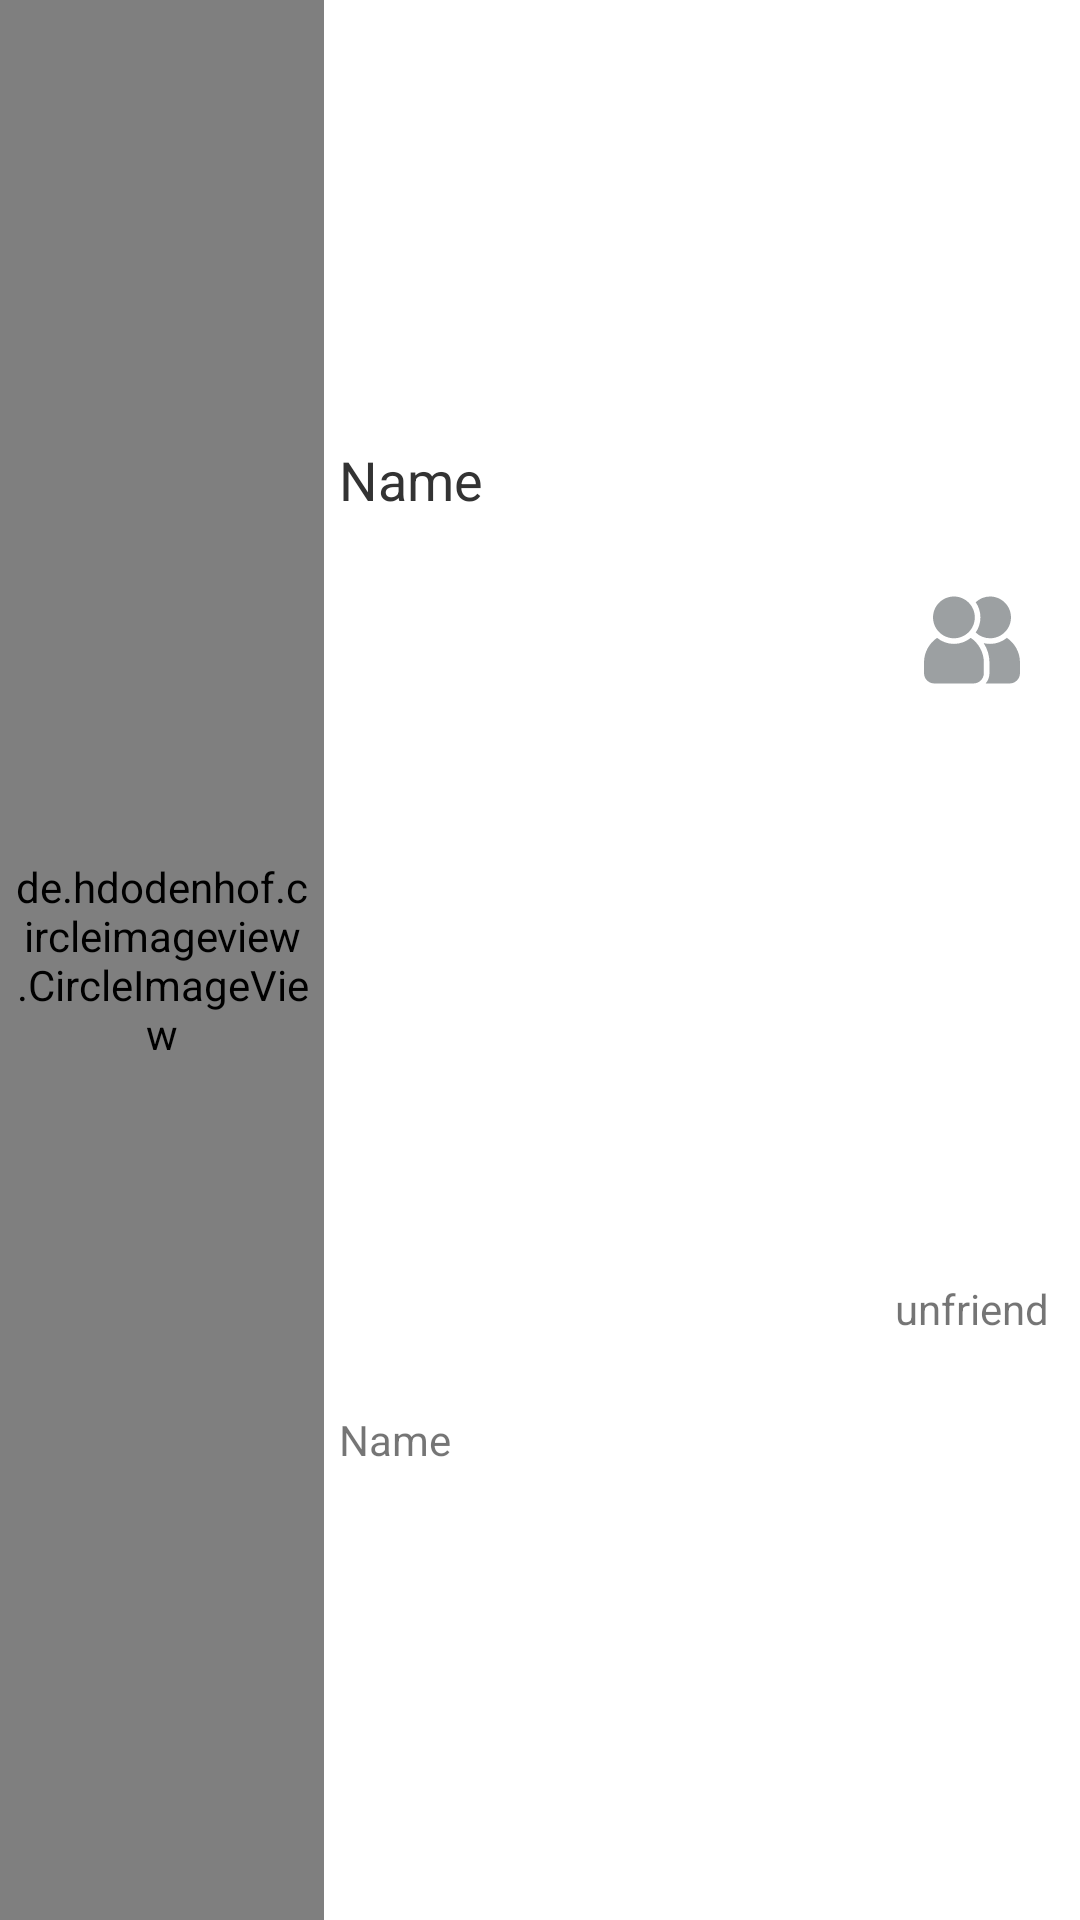

Where to tap for icons on this 1080 × 1920 app screen, as (x=x, y=y):
friends: (x=972, y=640)
